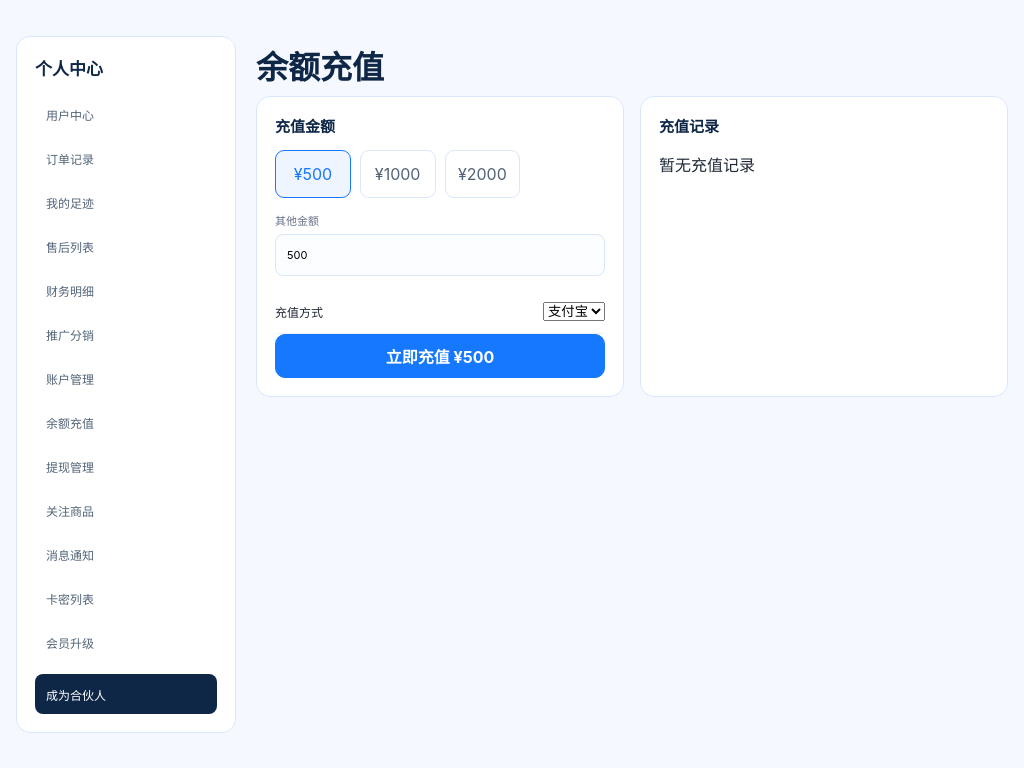
Test: 充值创建待支付记录并明确未接通支付而不伪造到账
Expected: the button "¥500" is shown, x1=275 y1=150 x2=351 y2=198
Click the button "立即充值 ¥500". click: (440, 356)
box: x1=275 y1=334 x2=605 y2=378
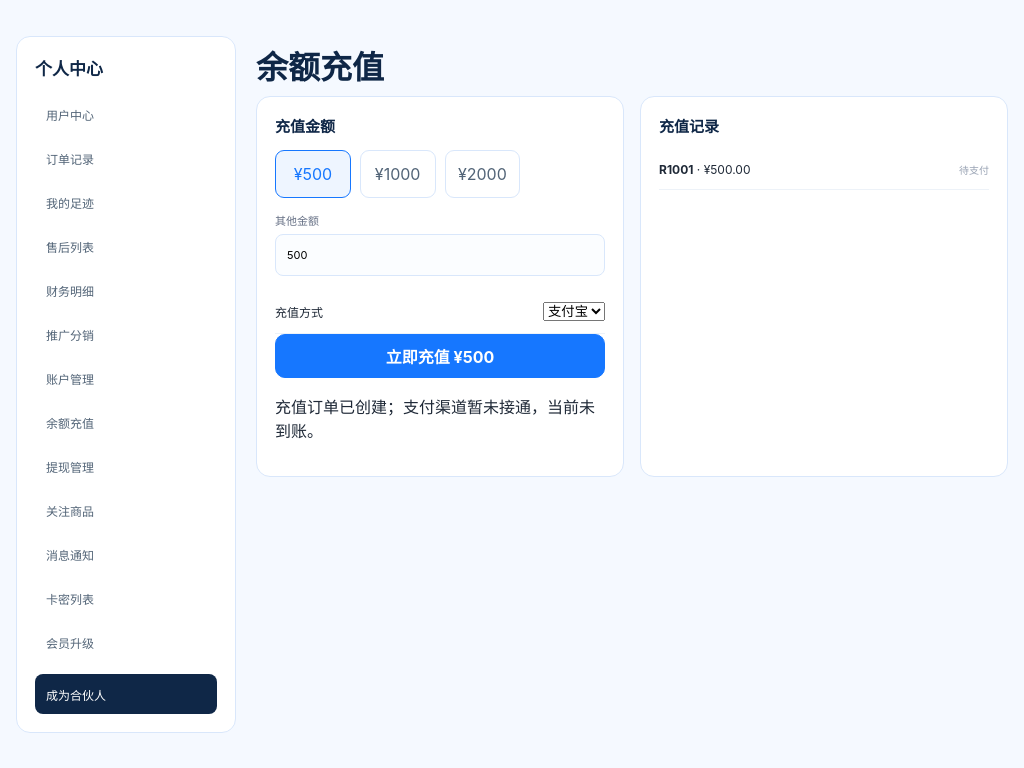
Expected: the text "充值订单已创建；支付渠道暂未接通，当前未到账。" is shown, x1=275 y1=394 x2=605 y2=442
Expected: the text "R1001" is shown, x1=659 y1=162 x2=693 y2=177
Expected: the text "待支付" is shown, x1=959 y1=162 x2=989 y2=177
